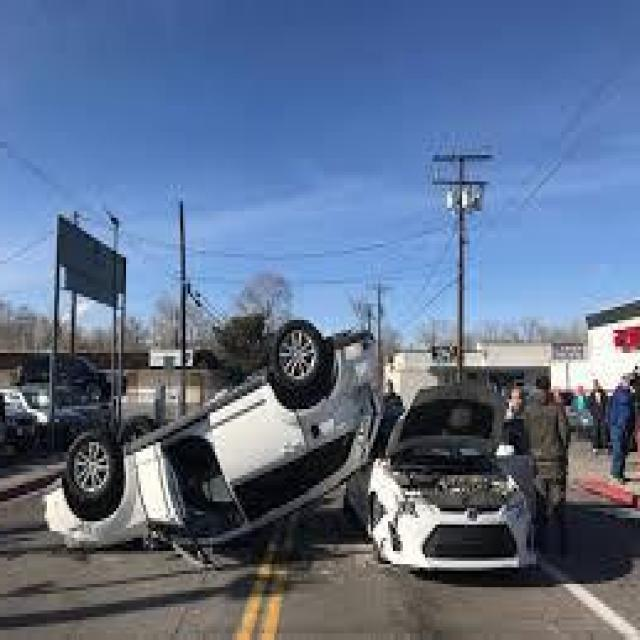accident: (34, 322, 538, 576)
